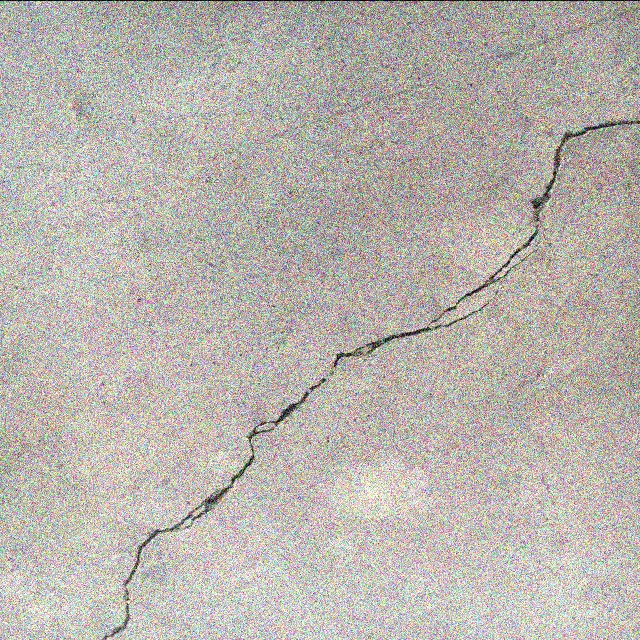SurfaceCrack: (1, 89, 640, 640)
